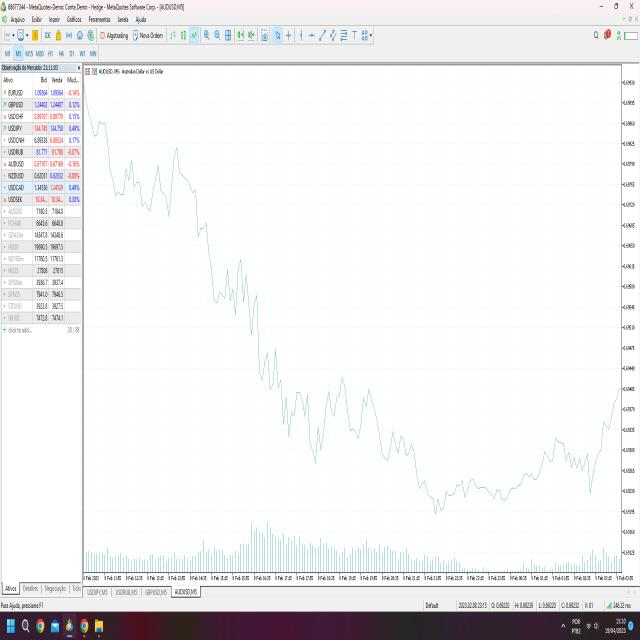oco: (117, 154, 144, 204)
